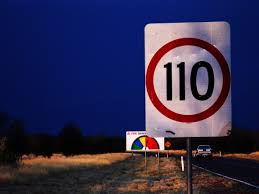Speed_limit_110km: (144, 38, 231, 123)
